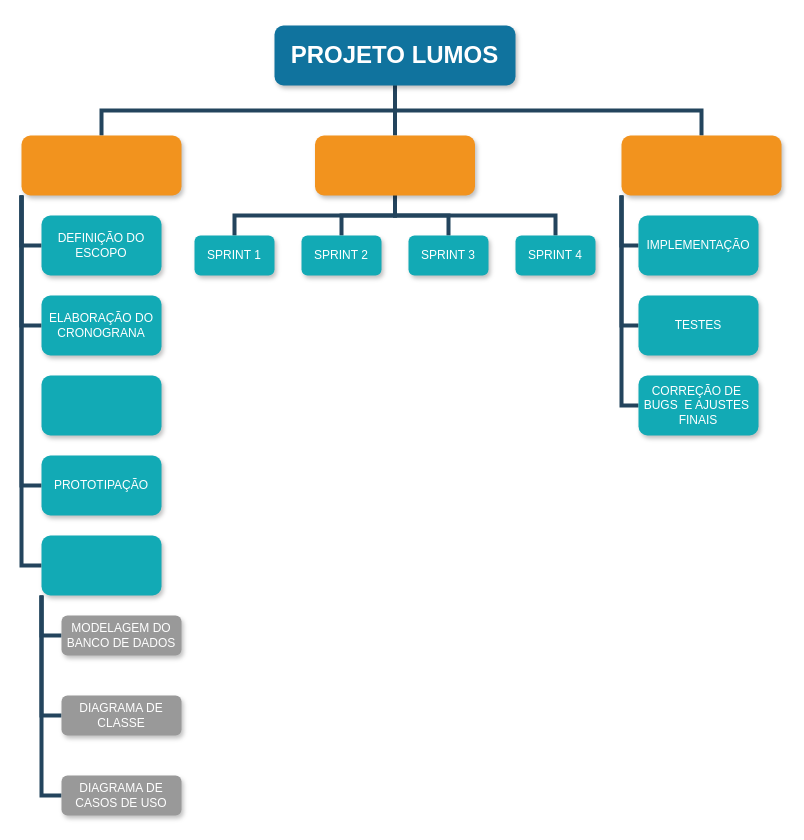
Image size: 804x840. Some labels were removed from this diagram. Each missing label, with the centre of its shape:
DESENVOLVIMENTO: the point at 395,166
DIAGRAMAÇÃO: the point at 102,566
ENTREGA: the point at 702,166
LEVANTAMENTO DE REQUISITOS: the point at 102,406
PLANEJAMENTO E DOCUMENTAÇÃO: the point at 102,166
